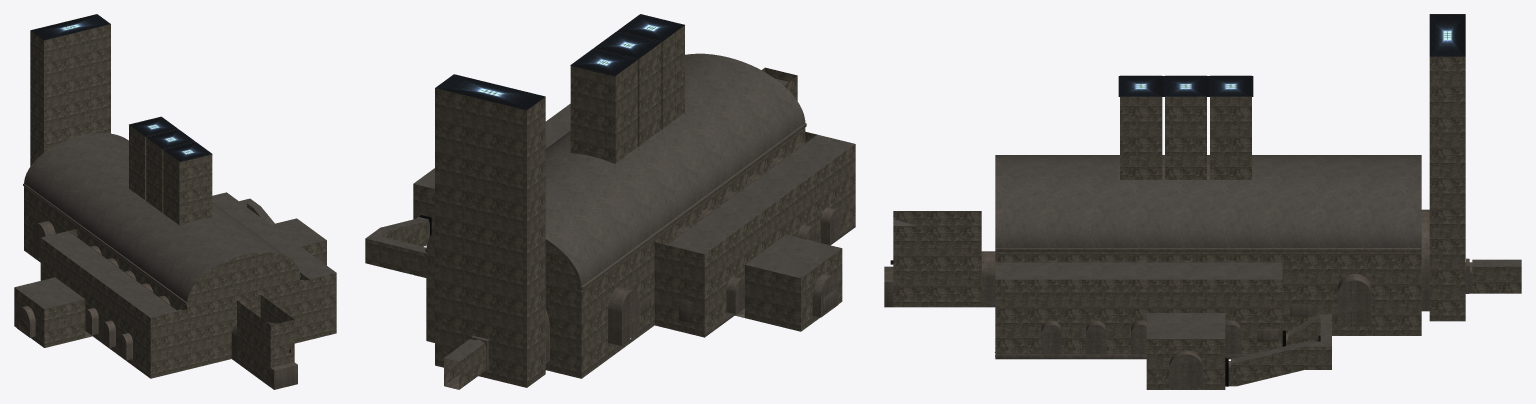
Rendered from temple.glb.
3 renders of one model, left to right at view 1: azimuth 30°, elevation 25°; view 2: azimuth 150°, elevation 25°; view 3: azimuth 270°, elevation 25°, orthographic. The views are drawn at different scales.
Parts seen in each view (by area): view 1: LM_walls, LM_vault, LM_columns, LM_floor; view 2: LM_walls, LM_vault, LM_columns, LM_props; view 3: LM_vault, LM_walls, LM_columns, LM_props, LM_floor.
Part boxes in pixels (x1=…): LM_walls: x1=14, y1=14, x2=336, y2=386; LM_vault: x1=15, y1=14, x2=336, y2=325; LM_columns: x1=23, y1=183, x2=308, y2=311; LM_floor: x1=85, y1=331, x2=297, y2=389; LM_walls: x1=365, y1=67, x2=855, y2=389; LM_vault: x1=365, y1=14, x2=854, y2=361; LM_columns: x1=425, y1=112, x2=817, y2=289; LM_props: x1=412, y1=246, x2=836, y2=325; LM_vault: x1=893, y1=14, x2=1521, y2=362; LM_walls: x1=890, y1=14, x2=1521, y2=389; LM_columns: x1=995, y1=159, x2=1421, y2=262; LM_props: x1=995, y1=304, x2=1311, y2=356; LM_floor: x1=884, y1=266, x2=1230, y2=359.
Bounding box in the file's own units: 39.62 × 26.5 × 56.78.
Materials: 47 (34 with a texture image).
